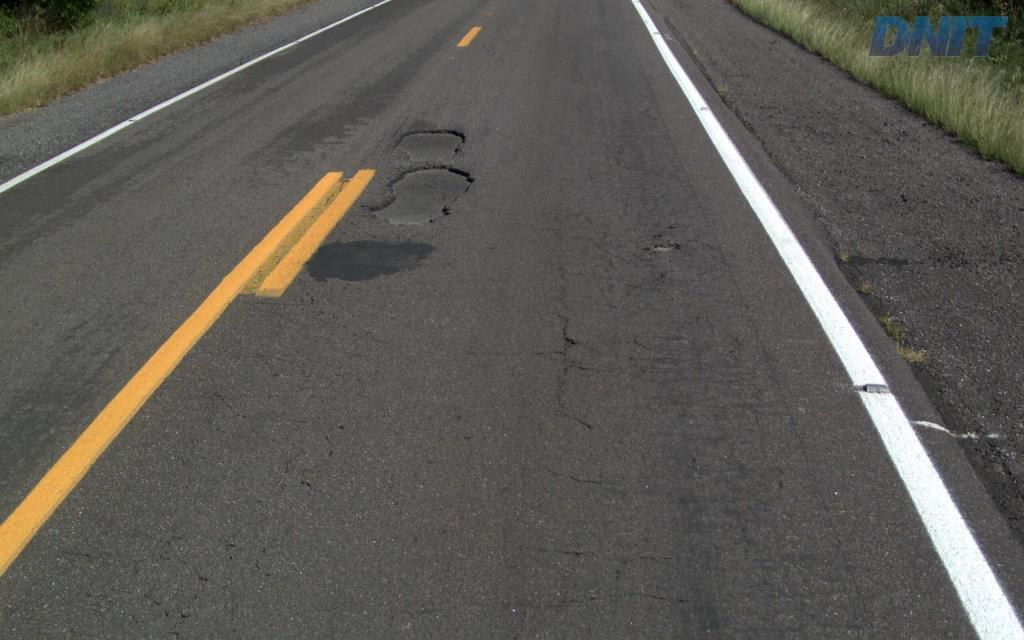pothole: (359, 127, 477, 232)
